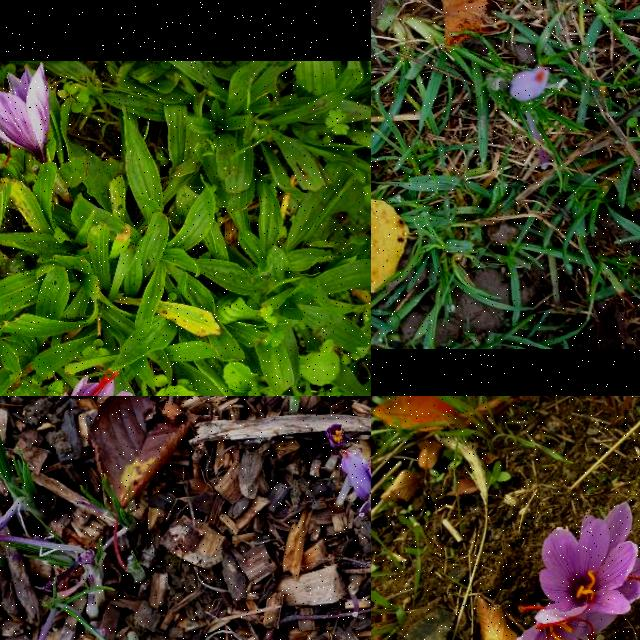flower: (0, 63, 50, 162), (52, 369, 133, 396), (510, 68, 550, 102)
overlap: (516, 502, 640, 640), (339, 450, 371, 502)
